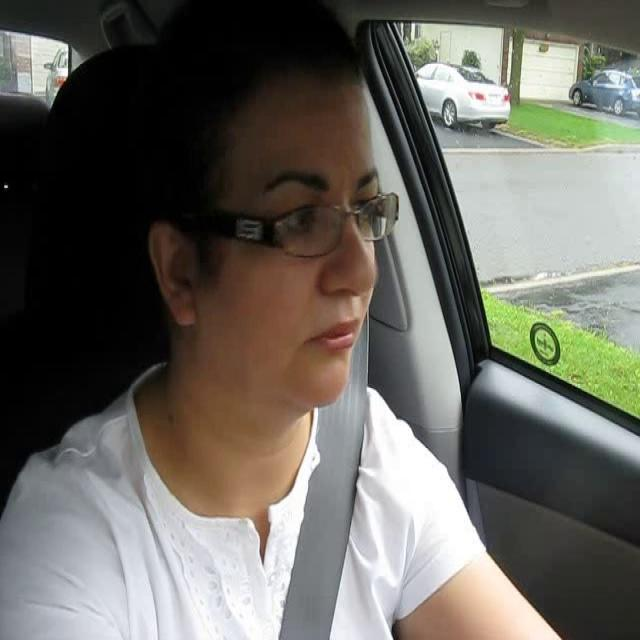close: (307, 314, 360, 354)
